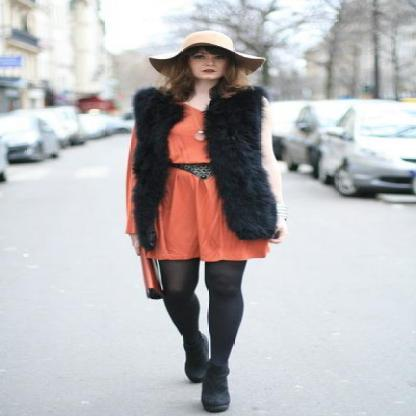bag: (137, 241, 175, 301)
dress: (153, 108, 277, 262)
hat: (171, 26, 233, 60)
jacket: (132, 86, 281, 241)
shoe: (184, 346, 229, 413)
